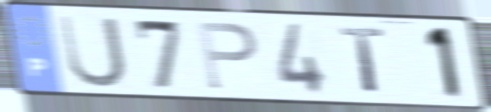1: (422, 25, 466, 103)
4: (275, 21, 331, 97)
7: (130, 16, 187, 91)
P: (194, 19, 261, 93)
T: (336, 25, 389, 97)
U: (55, 13, 131, 91)
